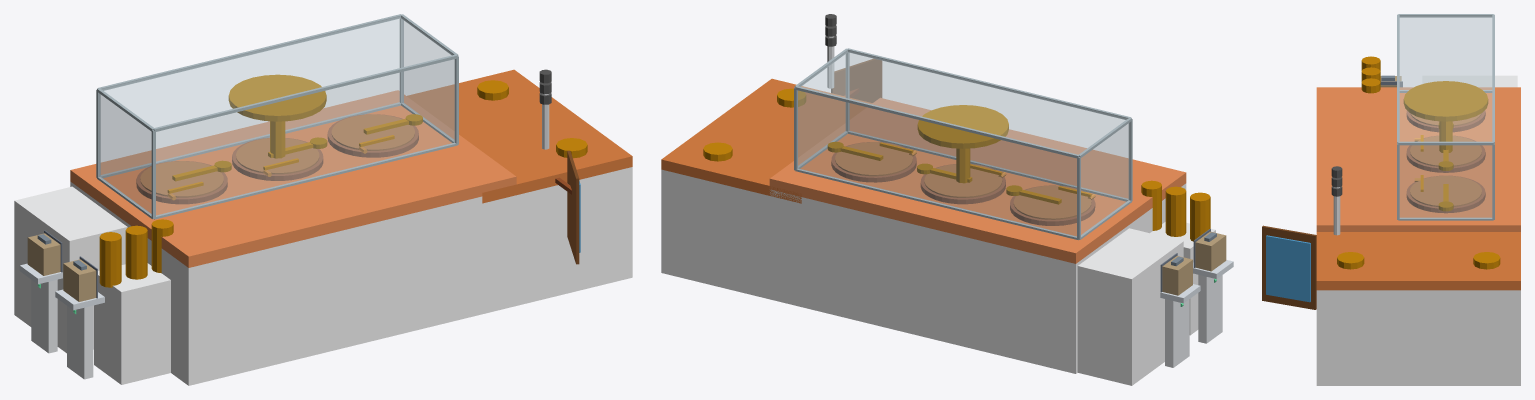
The model's file is CMP.glb.
3 views of the same model, side by side, from view 1: azimuth 30°, elevation 25°; view 2: azimuth 150°, elevation 25°; view 3: azimuth 270°, elevation 25° (orthographic). The views are drawn at different scales.
Parts seen in each view (by area): view 1: p00001, p00002, p00061, p00062, p00027, p00065, p00028, p00023, p00033, p00063, p00064, p00022 (+21 smaller); view 2: p00001, p00002, p00062, p00061, p00027, p00065, p00033, p00028, p00063, p00064, p00022, p00016 (+20 smaller); view 3: p00002, p00027, p00065, p00028, p00064, p00063, p00022, p00060, p00016, p00059, p00010, p00033 (+16 smaller).
Part boxes in pixels (<box>): p00001: <box>70,181,516,385</box>; p00002: <box>70,90,516,267</box>; p00061: <box>156,59,455,215</box>; p00062: <box>101,19,399,175</box>; p00027: <box>482,167,632,314</box>; p00065: <box>102,17,452,127</box>; p00028: <box>407,69,632,203</box>; p00023: <box>94,263,170,384</box>; p00033: <box>14,186,127,353</box>; p00063: <box>99,94,151,214</box>; p00064: <box>403,20,453,139</box>; p00022: <box>228,74,326,121</box>; p00001: <box>769,183,1186,373</box>; p00002: <box>769,98,1186,263</box>; p00062: <box>797,90,1076,236</box>; p00061: <box>849,53,1127,198</box>; p00027: <box>661,169,801,306</box>; p00065: <box>800,51,1126,154</box>; p00033: <box>1077,228,1183,385</box>; p00028: <box>661,78,871,203</box>; p00063: <box>1081,123,1129,235</box>; p00064: <box>798,54,845,165</box>; p00022: <box>917,105,1008,148</box>; p00016: <box>835,142,912,176</box>; p00002: <box>1316,87,1520,231</box>; p00027: <box>1316,290,1520,385</box>; p00065: <box>1400,16,1491,141</box>; p00028: <box>1316,232,1520,290</box>; p00064: <box>1400,145,1491,217</box>; p00063: <box>1400,18,1491,89</box>; p00022: <box>1403,81,1488,121</box>; p00060: <box>1266,235,1310,302</box>; p00016: <box>1410,175,1481,206</box>; p00059: <box>1262,225,1316,309</box>; p00010: <box>1410,136,1481,166</box>; p00033: <box>1422,75,1517,87</box>.
Bounding box in the file's own units: 7.71 × 3.07 × 3.8.
